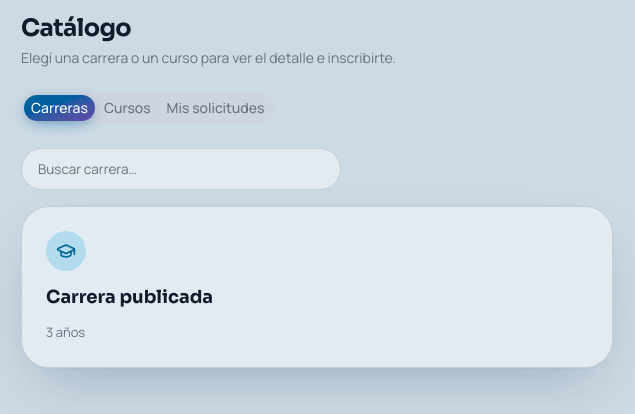
Test: Catalogo › only lists the programs and courses published in the catalog
The width and height of the screenshot is (635, 414).
Expected: the text "Carrera publicada" is shown, 46,286 -> 213,308
Click the tab "Cursos" at x=127, y=108, box 97,96 -> 158,120
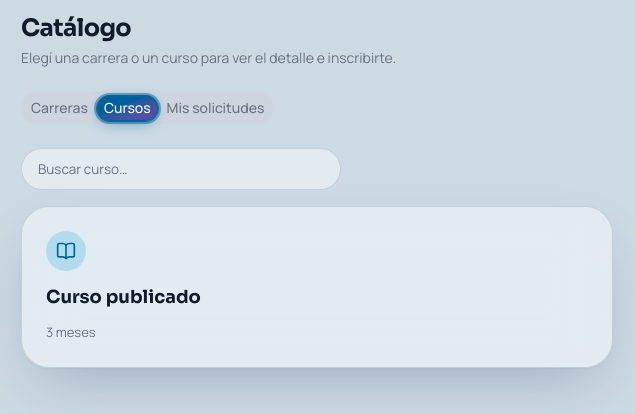
Expected: the text "Curso publicado" is shown, 46,286 -> 201,308
